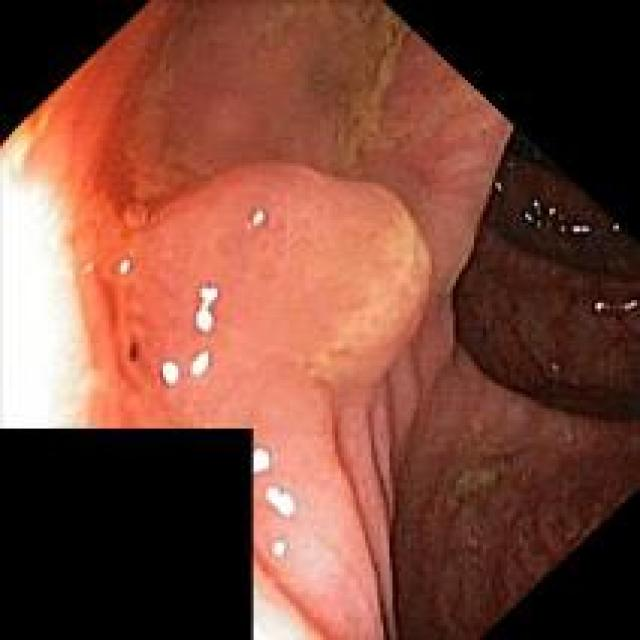Polyps: (74, 164, 432, 640)
